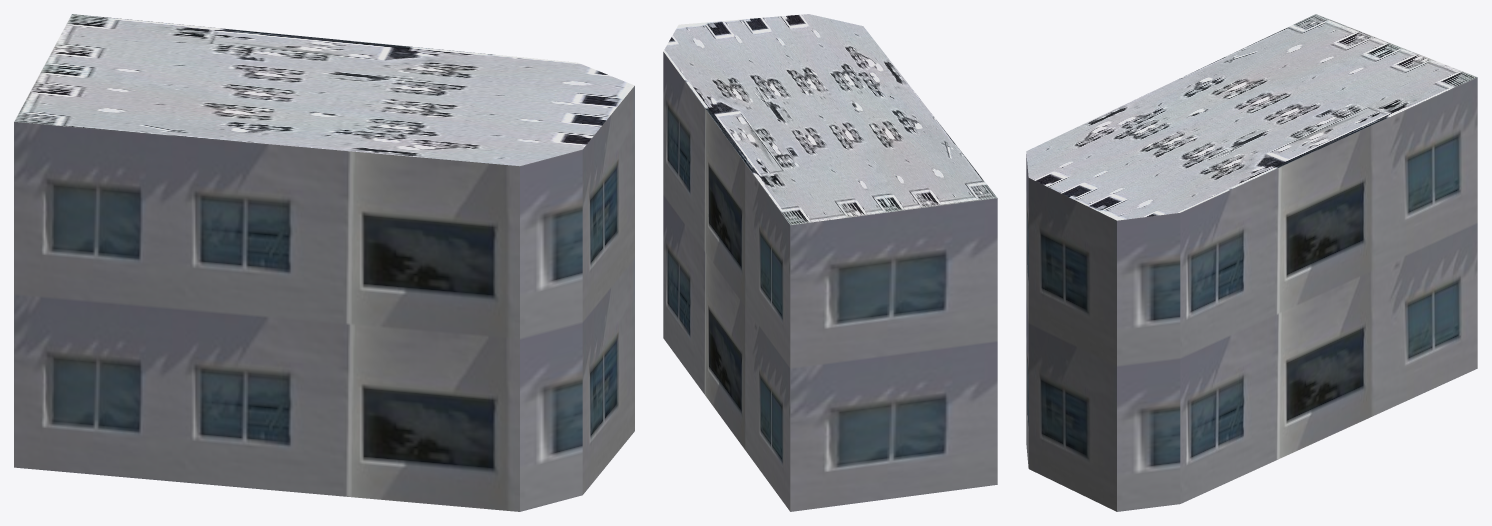
File: ResTex__509.fbx
3 renders of one model, left to right at view 1: azimuth 30°, elevation 25°; view 2: azimuth 150°, elevation 25°; view 3: azimuth 270°, elevation 25°, orthographic. The views are drawn at different scales.
Parts seen in each view (by area): view 1: CityEngineMaterial_10_m, CityEngineMaterial_2_m; view 2: CityEngineMaterial_10_m, CityEngineMaterial_2_m; view 3: CityEngineMaterial_10_m, CityEngineMaterial_2_m.
Boxes of the visible parts, x1,y1,x2,y2 form: CityEngineMaterial_10_m: [14, 86, 634, 511]; CityEngineMaterial_2_m: [14, 14, 634, 166]; CityEngineMaterial_10_m: [663, 52, 997, 511]; CityEngineMaterial_2_m: [663, 14, 997, 225]; CityEngineMaterial_10_m: [1026, 77, 1477, 511]; CityEngineMaterial_2_m: [1026, 14, 1477, 220].
Bounding box in the file's own units: 9.13 × 6 × 8.43.
Materials: 2 (2 with a texture image).
